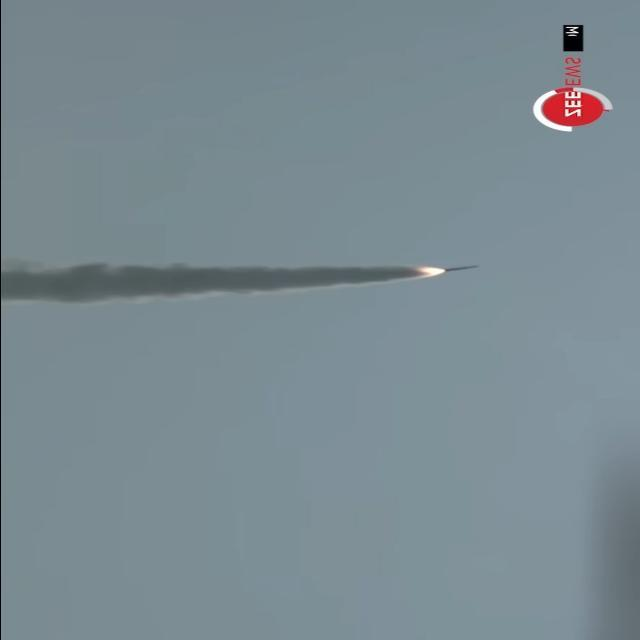missile: (425, 264, 482, 276)
